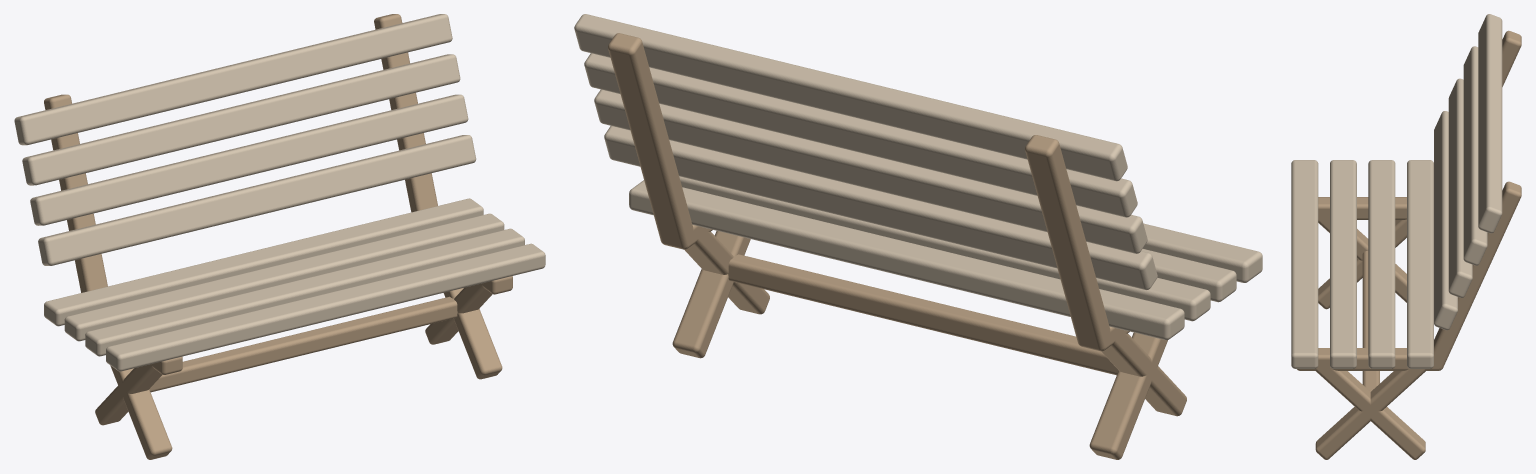
Rendered from parkbench.glb.
3 renders of one model, left to right at view 1: azimuth 30°, elevation 25°; view 2: azimuth 150°, elevation 25°; view 3: azimuth 270°, elevation 25°, orthographic. The views are drawn at different scales.
Visible parts, largest first — view 1: Mesh_Mesh_head_geo.001_lambert2SG.001; view 2: Mesh_Mesh_head_geo.001_lambert2SG.001; view 3: Mesh_Mesh_head_geo.001_lambert2SG.001.
Boxes of the visible parts, x1,y1,x2,y2 form: Mesh_Mesh_head_geo.001_lambert2SG.001: (14, 14, 545, 459); Mesh_Mesh_head_geo.001_lambert2SG.001: (574, 14, 1262, 459); Mesh_Mesh_head_geo.001_lambert2SG.001: (1291, 14, 1521, 459).
Bounding box in the file's own units: 0.0488 × 0.031 × 0.0239.
